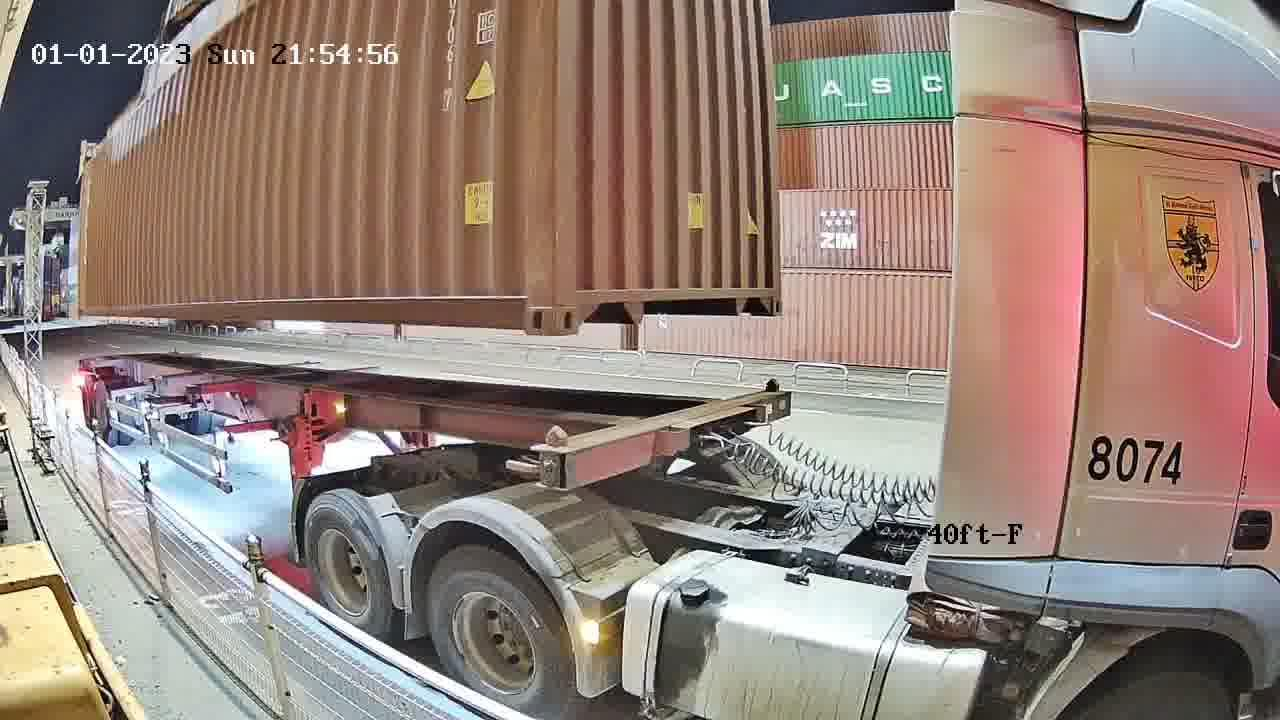Chassis: (536, 390, 793, 488)
Cone: (526, 424, 571, 491), (762, 375, 788, 414)
Hole_L: (553, 271, 605, 336)
Hole_R: (493, 262, 553, 337), (743, 271, 783, 315)
Tire: (426, 547, 570, 719), (303, 491, 389, 636)
